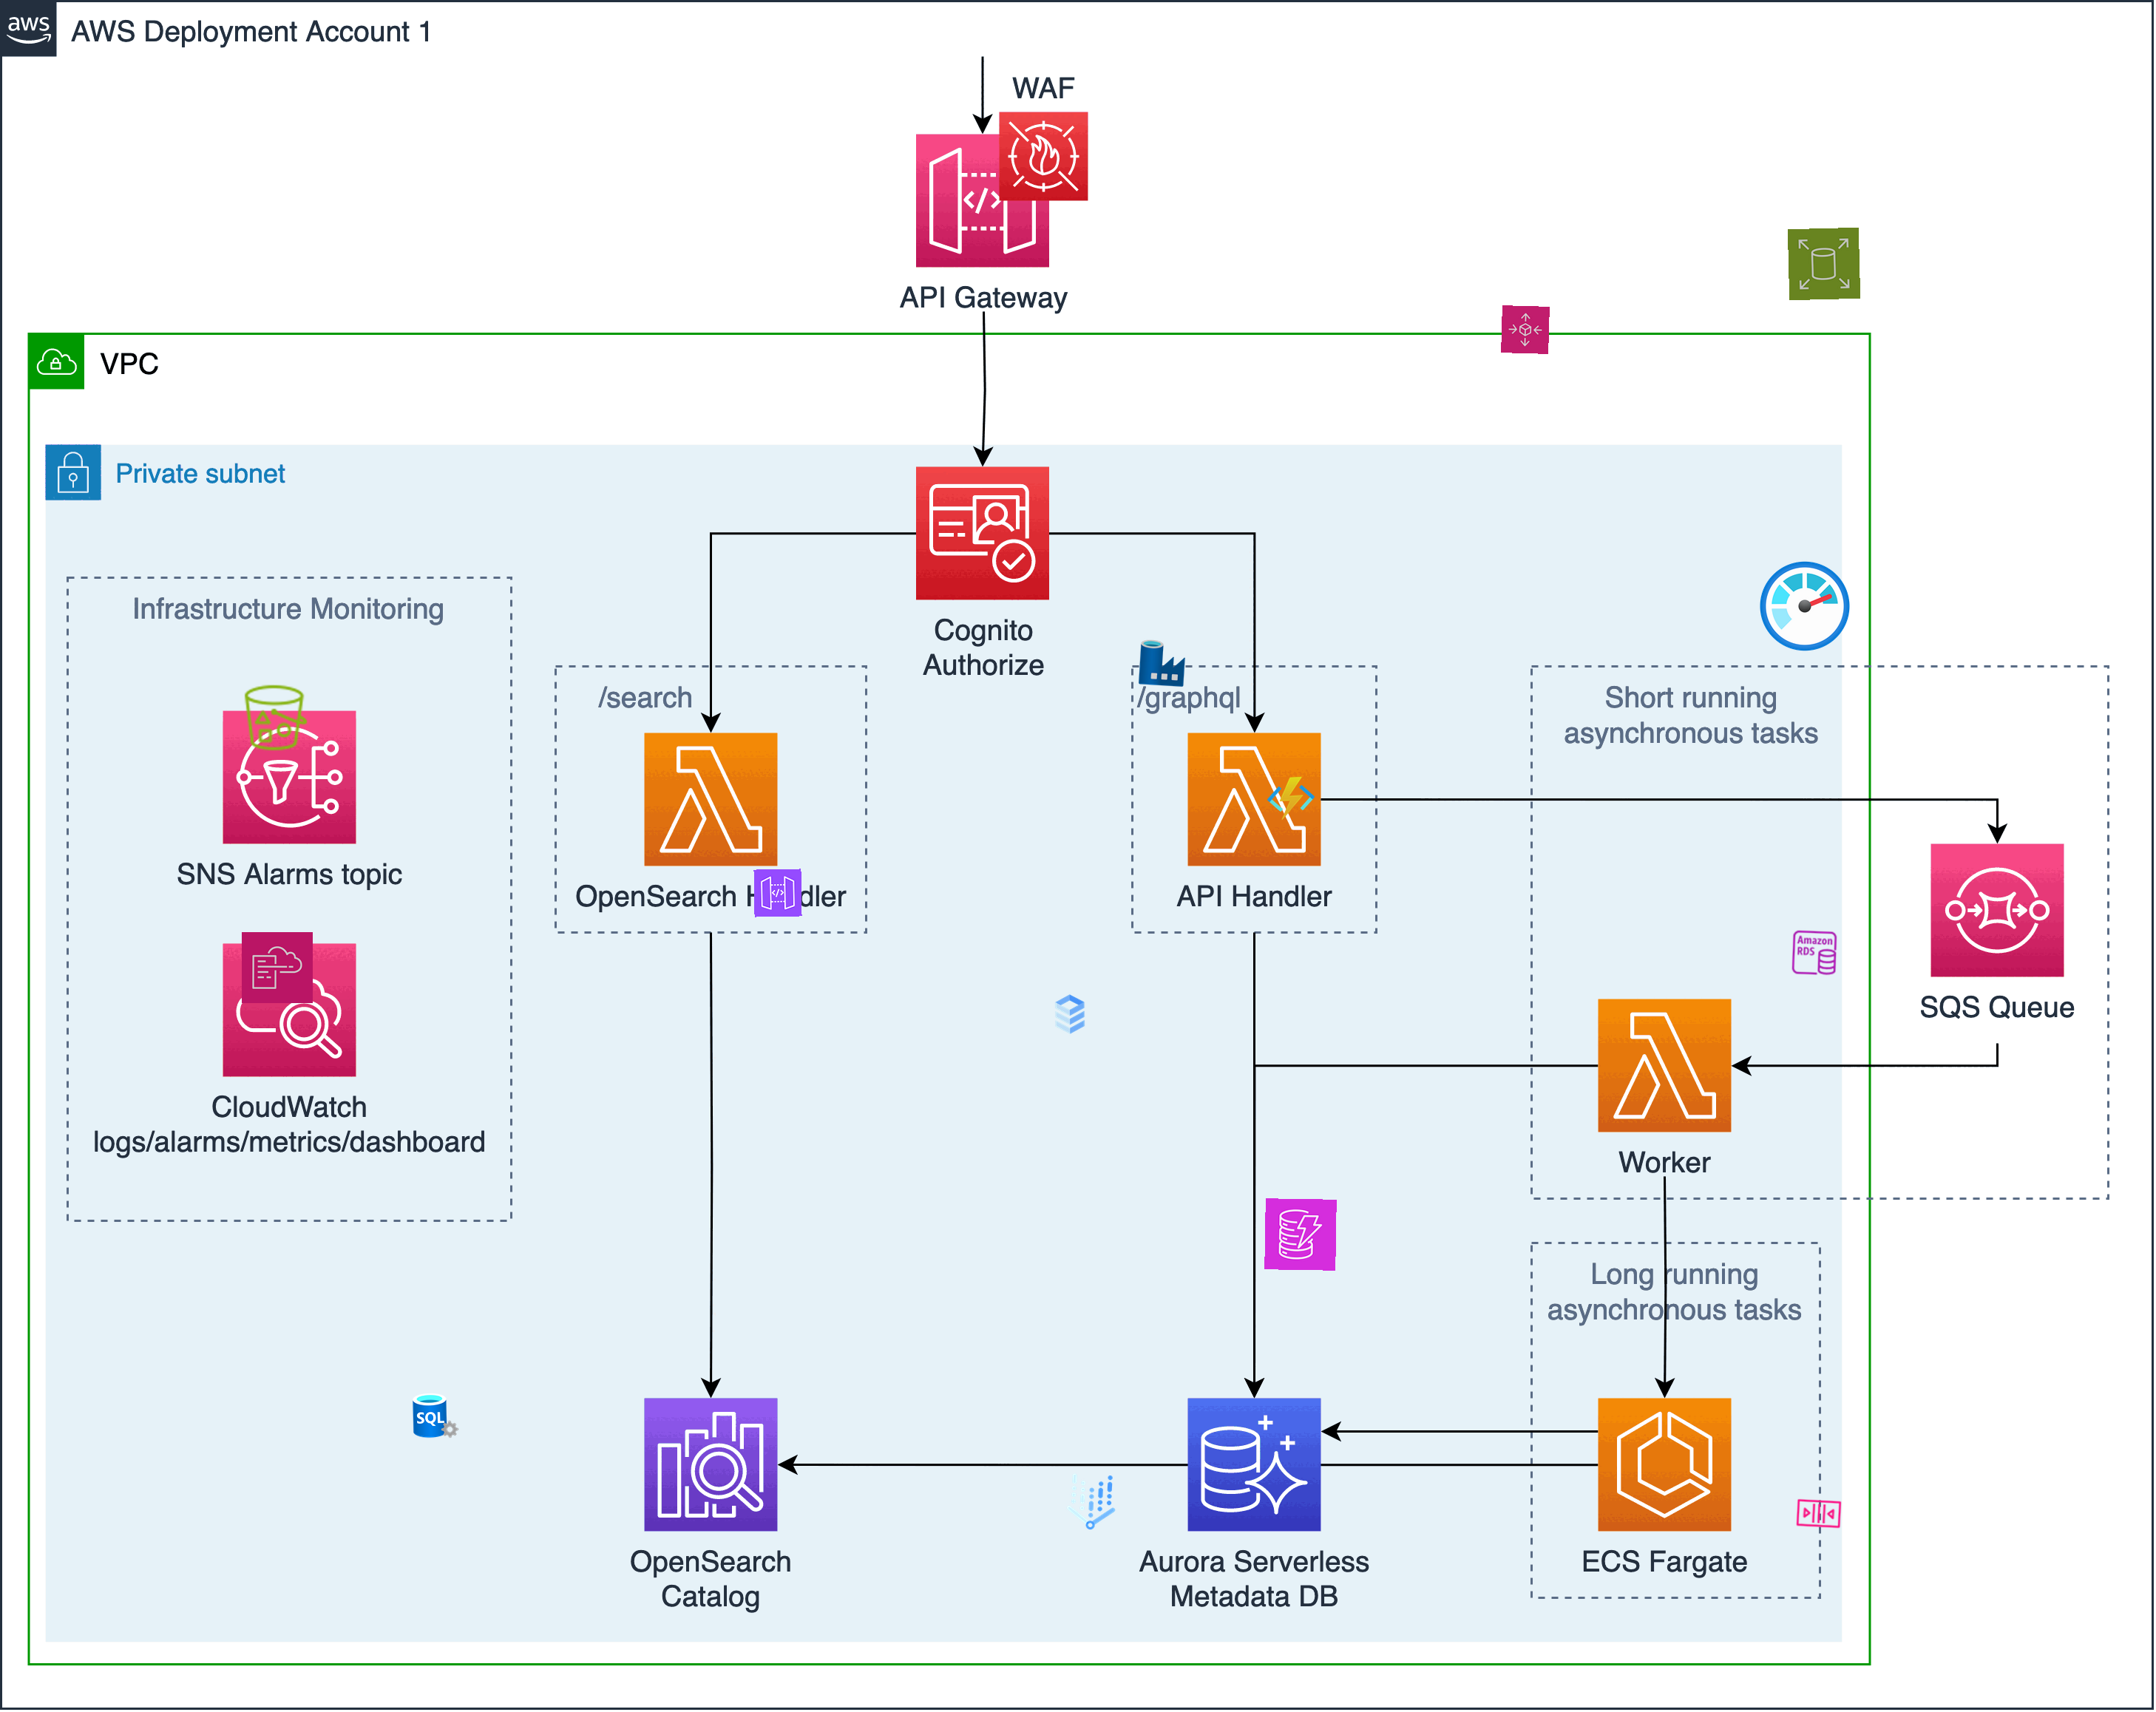aws_amazon_api_gateway: (754, 869, 801, 918)
aws_amazon_dynamodb: (1263, 1198, 1337, 1271)
aws_amazon_elastic_block_store: (1787, 227, 1860, 301)
aws_aurora_amazon_rds_instance: (1788, 929, 1839, 978)
aws_auto_scaling: (1502, 306, 1550, 353)
aws_cloudformation: (241, 932, 313, 1004)
aws_simple_queue_service_queue: (1794, 1488, 1844, 1539)
aws_simple_storage_service_bucket_with_objects: (240, 682, 312, 754)
azure_data_factories: (1137, 638, 1188, 689)
azure_function_apps: (1265, 773, 1316, 824)
azure_monitor: (1757, 558, 1853, 654)
azure_sql_server: (411, 1392, 460, 1439)
gcp_cloud_sql: (1045, 990, 1094, 1039)
gcp_vertex_ai: (1053, 1464, 1129, 1541)
